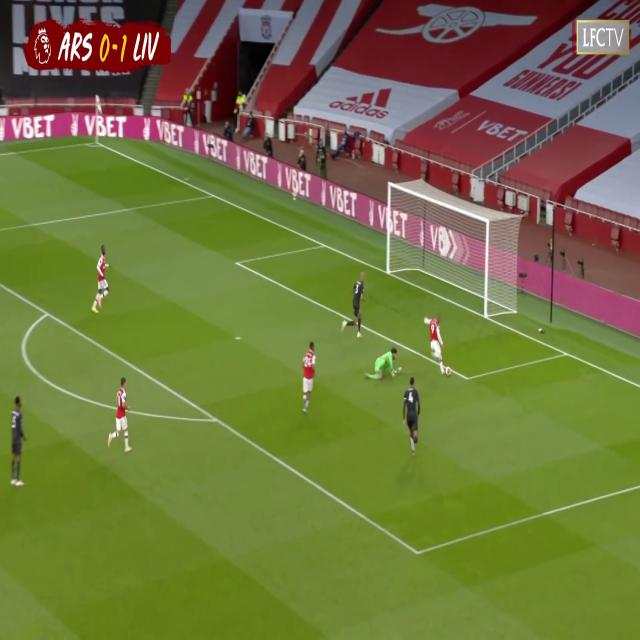Ball: (446, 364, 452, 377)
GoalKeeper: (369, 349, 399, 383)
TEAM 1: (109, 379, 134, 453), (428, 316, 452, 380), (301, 343, 318, 417), (94, 245, 111, 312)
TEAM 2: (10, 399, 30, 489), (402, 380, 422, 457), (348, 274, 363, 338)
